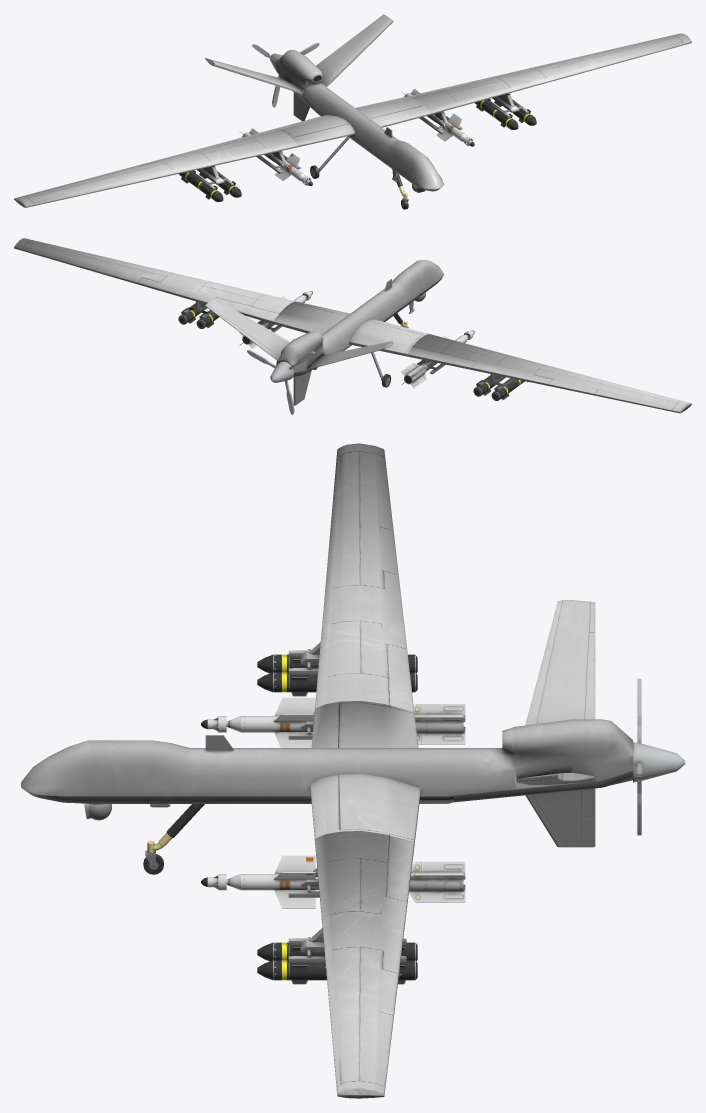
The model's file is MQ9Cutout.fbx.
The picture shows the model from 3 angles, top to bottom: view 1: azimuth 30°, elevation 25°; view 2: azimuth 150°, elevation 25°; view 3: azimuth 270°, elevation 25°; orthographic projection. The views are drawn at different scales.
Visible parts, largest first — view 1: MQ9, MQ9.002, MQ9.001, MQ9.004, MQ9.003, GBU12-R, GBU12-L, AGM114-R1, AGM114-L2, MQ9.008, MQ9_MissilePodR1, MQ9_MissilePodL1; view 2: MQ9, MQ9.002, MQ9.001, MQ9.004, MQ9.008, MQ9.003, GBU12-R, AGM114-R1, GBU12-L; view 3: MQ9, MQ9.001, MQ9.002, MQ9.003, GBU12-L, GBU12-R, MQ9.008, AGM114-L1, AGM114-R2, AGM114-L2.
Part boxes in pixels (x1=…): MQ9: x1=273, y1=50, x2=443, y2=209; MQ9.002: x1=14, y1=129, x2=297, y2=207; MQ9.001: x1=407, y1=33, x2=691, y2=114; MQ9.004: x1=316, y1=14, x2=393, y2=86; MQ9.003: x1=205, y1=58, x2=302, y2=94; GBU12-R: x1=239, y1=128, x2=312, y2=185; GBU12-L: x1=401, y1=88, x2=474, y2=146; AGM114-R1: x1=179, y1=170, x2=223, y2=201; AGM114-L2: x1=475, y1=98, x2=518, y2=129; MQ9.008: x1=252, y1=42, x2=319, y2=107; MQ9_MissilePodR1: x1=188, y1=168, x2=233, y2=190; MQ9_MissilePodL1: x1=484, y1=96, x2=528, y2=118; MQ9: x1=273, y1=260, x2=444, y2=405; MQ9.002: x1=406, y1=334, x2=691, y2=413; MQ9.001: x1=14, y1=238, x2=295, y2=323; MQ9.004: x1=205, y1=298, x2=289, y2=360; MQ9.008: x1=247, y1=349, x2=314, y2=414; MQ9.003: x1=307, y1=341, x2=393, y2=369; GBU12-R: x1=401, y1=330, x2=474, y2=388; AGM114-R1: x1=491, y1=379, x2=527, y2=400; GBU12-L: x1=239, y1=291, x2=312, y2=348; MQ9: x1=21, y1=701, x2=632, y2=874; MQ9.001: x1=315, y1=831, x2=414, y2=1098; MQ9.002: x1=315, y1=443, x2=414, y2=711; MQ9.003: x1=525, y1=600, x2=595, y2=725; GBU12-L: x1=201, y1=855, x2=465, y2=908; GBU12-R: x1=201, y1=697, x2=465, y2=747; MQ9.008: x1=633, y1=678, x2=685, y2=835; AGM114-L1: x1=257, y1=956, x2=417, y2=984; AGM114-R2: x1=257, y1=668, x2=417, y2=696; AGM114-L2: x1=257, y1=938, x2=417, y2=961.
Size of the model in its own units: 1800 by 242 by 777.
